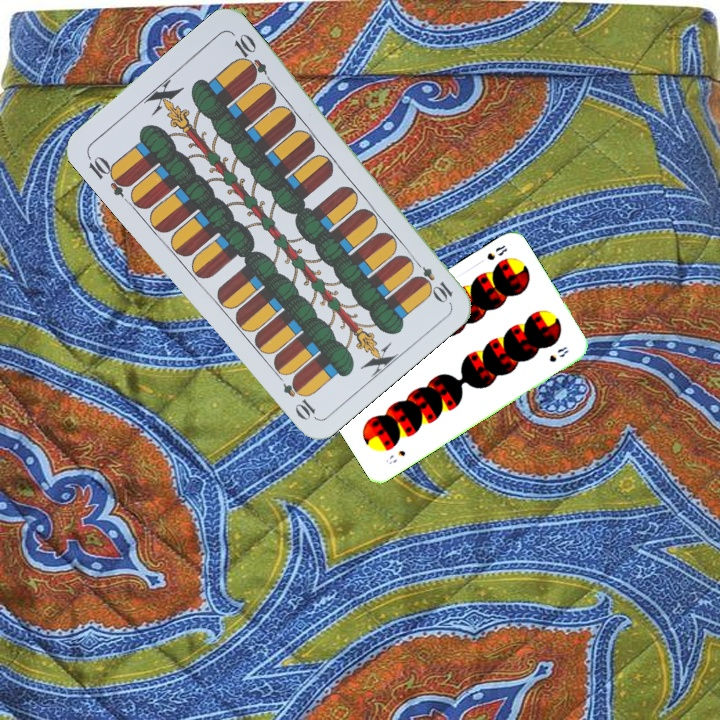E10: (83, 150, 133, 199), (408, 254, 456, 305)
S8: (483, 241, 510, 263), (382, 446, 408, 467)
